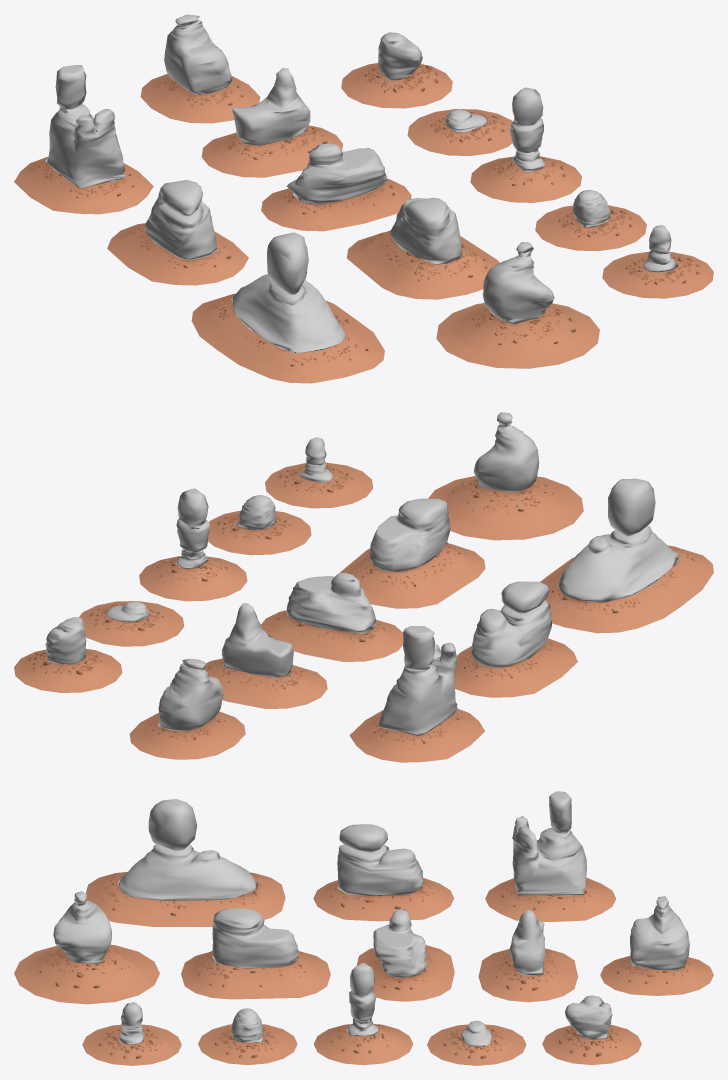
File: sandrock_ground_ready.fbx
3 renders of one model, top to bottom at view 1: azimuth 30°, elevation 25°; view 2: azimuth 150°, elevation 25°; view 3: azimuth 270°, elevation 25°, orthographic. The views are drawn at different scales.
Visible parts, largest first — view 1: Ground_rock_9, Rock_9, Ground_rock_8, Rock_11, Ground_rock_2, Ground_rock_6, Ground_rock_11, Ground_rock_4, Rock_4, Rock_6, Ground_rock_12, Ground_rock_13 (+14 smaller); view 2: Rock_9, Ground_rock_8, Ground_rock_9, Rock_11, Ground_rock_2, Rock_6, Rock_2, Ground_rock_6, Ground_rock_11, Rock_4, Ground_rock_4, Ground_rock_12 (+14 smaller); view 3: Rock_9, Ground_rock_8, Rock_11, Ground_rock_9, Ground_rock_2, Rock_6, Rock_2, Ground_rock_12, Ground_rock_6, Ground_rock_11, Rock_10, Ground_rock_10 (+14 smaller).
Part boxes in pixels (x1,y1,x2,y2): Ground_rock_9: [191, 293, 384, 383]; Rock_9: [231, 232, 345, 353]; Ground_rock_8: [436, 303, 599, 368]; Rock_11: [45, 65, 125, 187]; Ground_rock_2: [347, 230, 499, 299]; Ground_rock_6: [107, 223, 248, 285]; Ground_rock_11: [14, 157, 153, 214]; Ground_rock_4: [261, 179, 411, 231]; Rock_4: [286, 143, 387, 204]; Rock_6: [145, 180, 217, 260]; Ground_rock_12: [201, 125, 342, 177]; Ground_rock_13: [470, 156, 581, 202]; Rock_9: [559, 478, 678, 602]; Ground_rock_8: [428, 476, 583, 540]; Ground_rock_9: [540, 545, 713, 633]; Rock_11: [378, 626, 457, 736]; Ground_rock_2: [340, 542, 485, 608]; Rock_6: [471, 581, 551, 667]; Rock_2: [369, 498, 450, 571]; Ground_rock_6: [454, 638, 577, 697]; Ground_rock_11: [349, 709, 484, 762]; Rock_4: [286, 572, 376, 633]; Ground_rock_4: [261, 610, 403, 661]; Ground_rock_12: [204, 658, 327, 708]; Rock_9: [118, 799, 258, 900]; Ground_rock_8: [14, 944, 159, 1004]; Rock_11: [512, 791, 586, 895]; Ground_rock_9: [85, 871, 285, 926]; Ground_rock_2: [181, 950, 330, 999]; Rock_6: [337, 824, 423, 896]; Rock_2: [212, 908, 298, 968]; Ground_rock_12: [478, 948, 577, 1002]; Ground_rock_6: [313, 878, 453, 921]; Ground_rock_11: [485, 877, 616, 922]; Rock_10: [630, 896, 689, 969]; Ground_rock_10: [600, 956, 713, 995].
Bounding box in the file's own units: 1523 × 362 × 2285.
